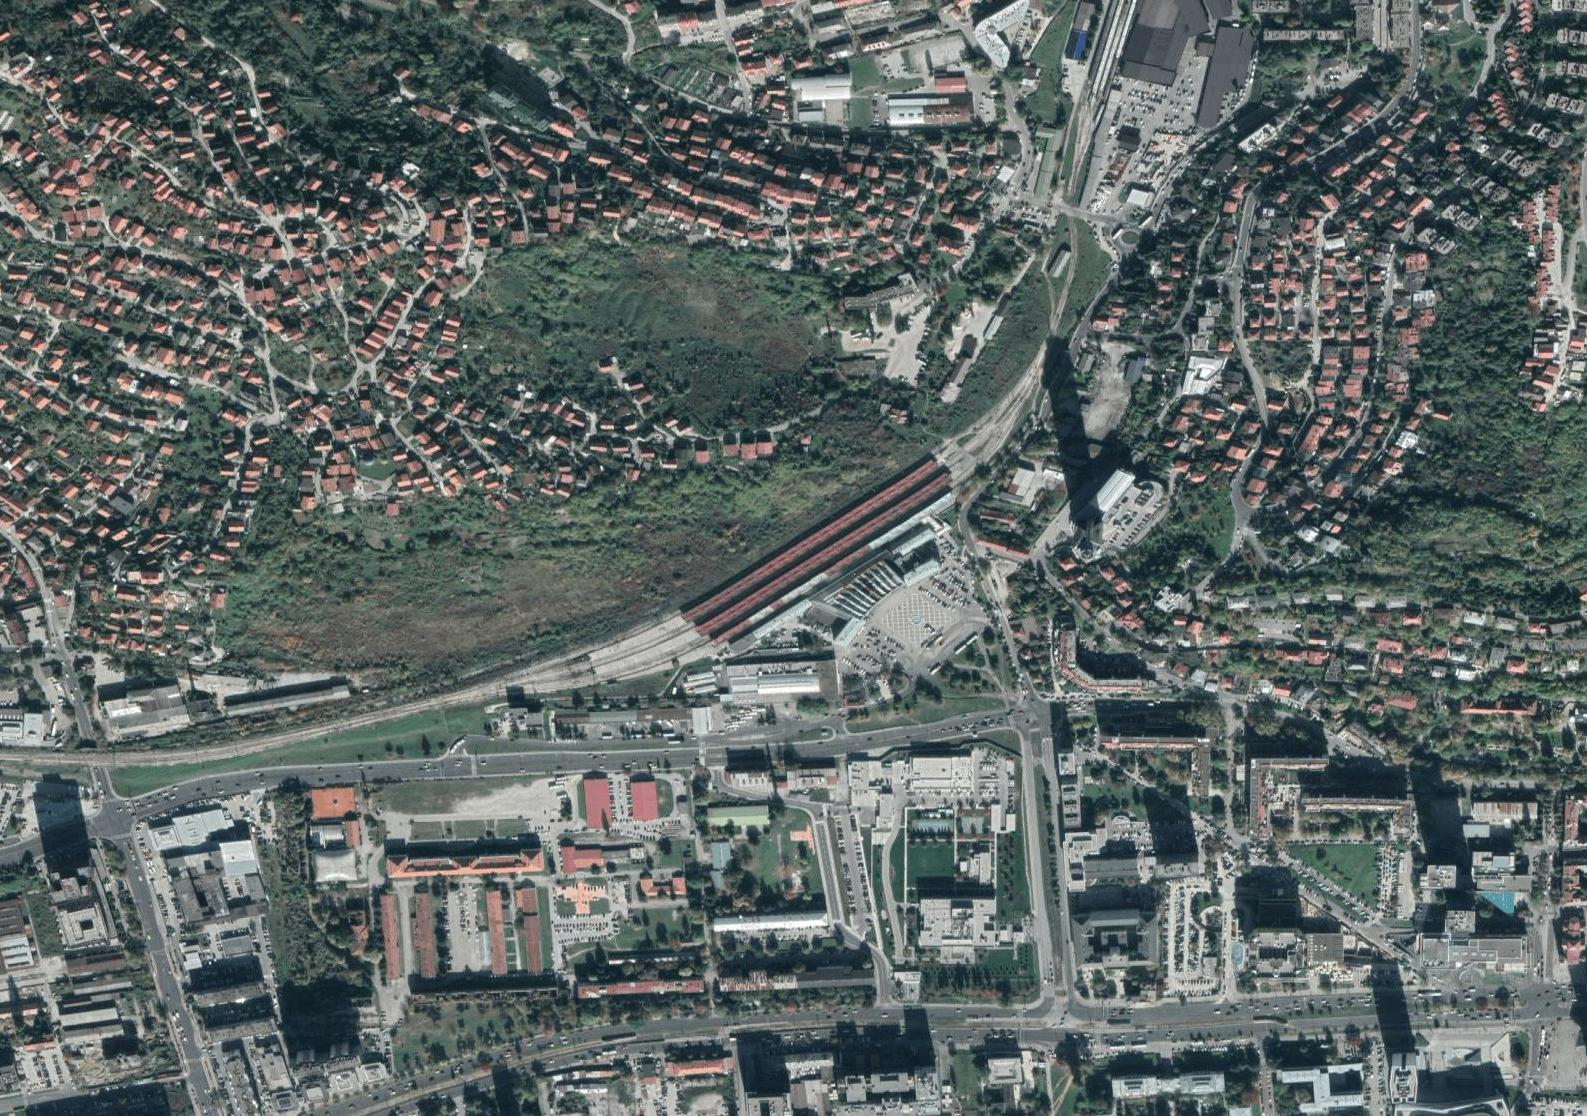train_station: (669, 446, 983, 675)
